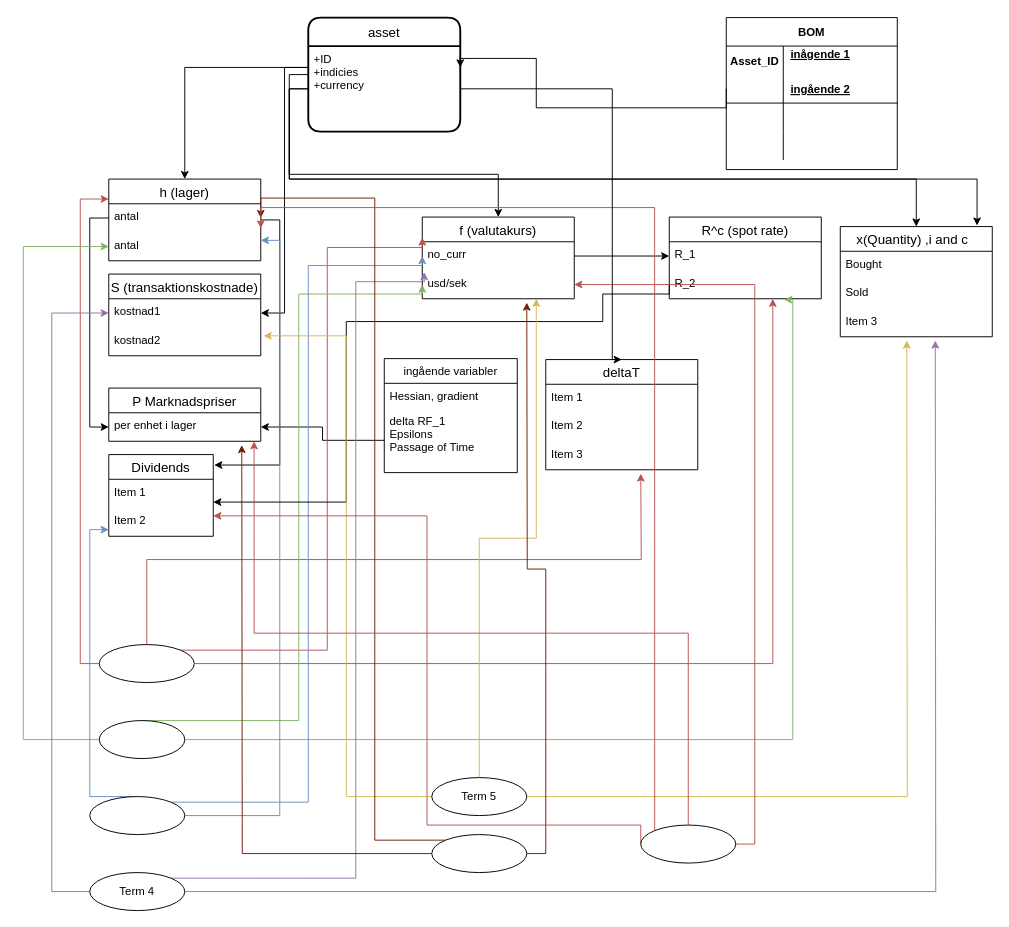
This 1009x927 diagram has some shape labels left out. The centre of each missing label's shape, as x and y in pixels:
Term 1: the point at 146,663
Term 2: the point at 141,739
Term 3: the point at 137,815
Term 6: the point at 479,853
Term 7: the point at 688,843
